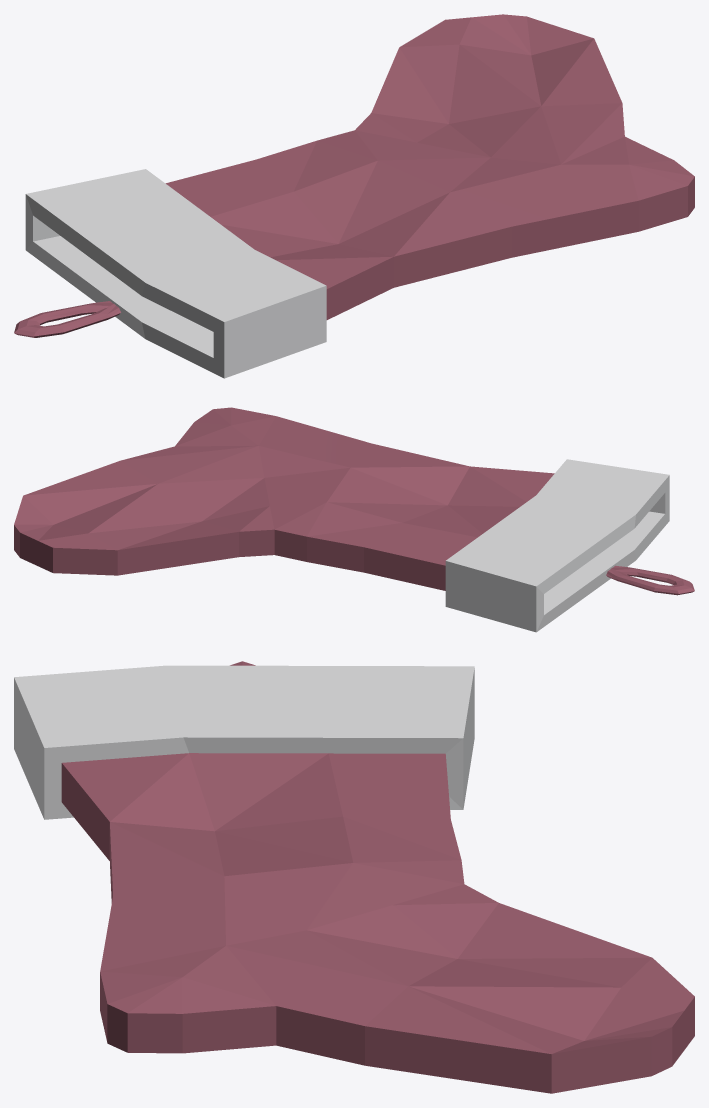
File: f-sock.fbx
3 views of the same model, one above another, from view 1: azimuth 30°, elevation 25°; view 2: azimuth 150°, elevation 25°; view 3: azimuth 270°, elevation 25° (orthographic). The views are drawn at different scales.
Parts seen in each view (by area): view 1: pasted__pCube1; view 2: pasted__pCube1; view 3: pasted__pCube1.
Boxes of the visible parts, bbox=[...] form: pasted__pCube1: bbox=[14, 14, 694, 378]; pasted__pCube1: bbox=[14, 407, 694, 632]; pasted__pCube1: bbox=[14, 661, 694, 1093].
Bounding box in the file's own units: 120 × 10.26 × 78.99.
